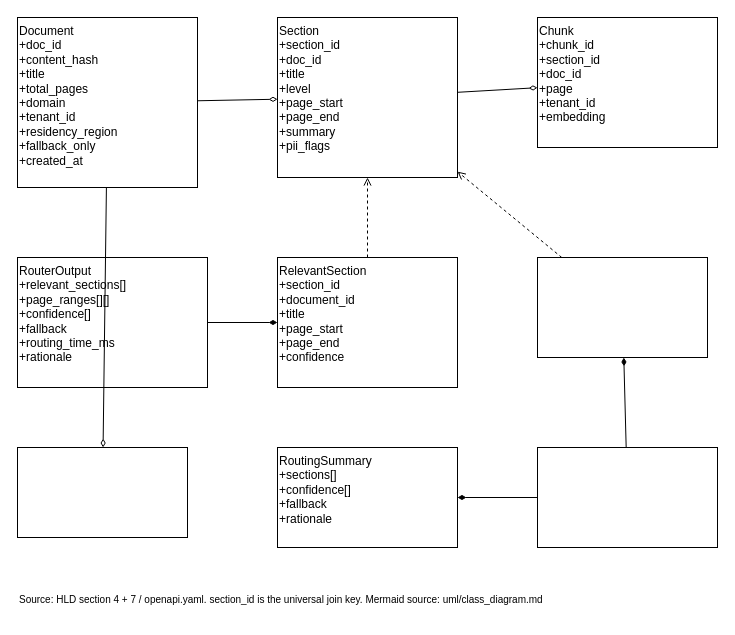
The diagram is 735 pixels wide and 635 high, and some of its shapes have lost their labels. The shapes that lost their labels are listed below. From the top down, each one's centre as x and y in pixels, then its label:
[622,307]: Citation +section_id +section_title +page_start +page_end
[102,492]: PiiField +field +location +category
[627,497]: AnswerFinalEvent +query_id +answer +citations[] +routing
